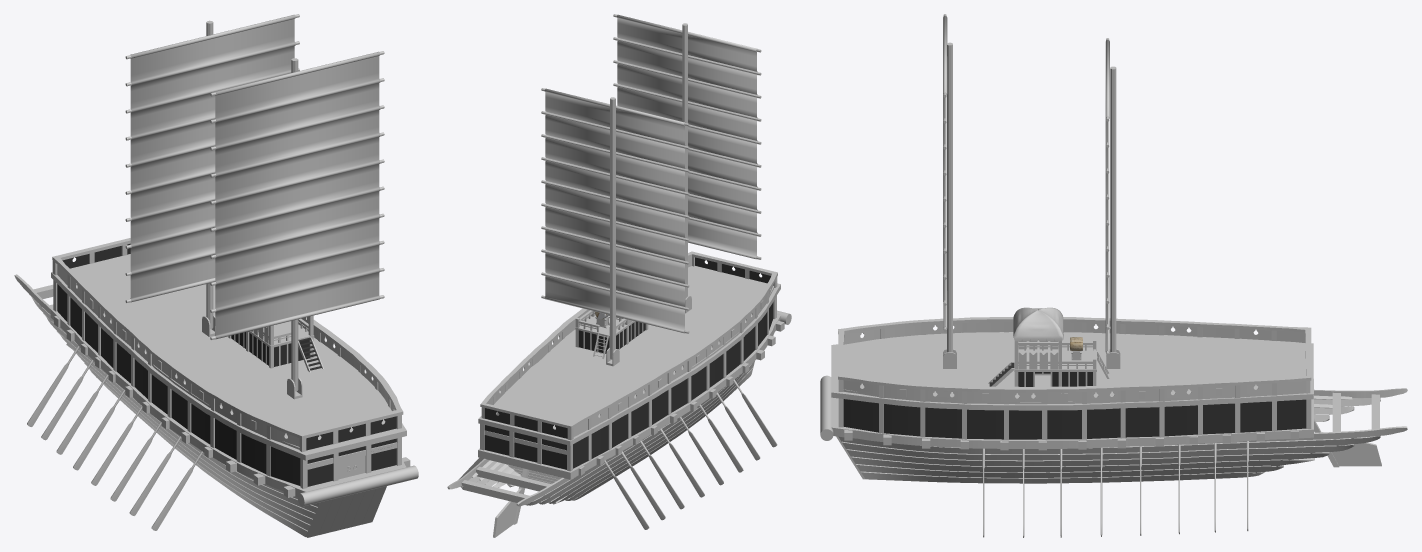
Rendered from SM_PanokShip.FBX.
The picture shows the model from 3 angles, left to right: view 1: azimuth 30°, elevation 25°; view 2: azimuth 150°, elevation 25°; view 3: azimuth 270°, elevation 25°; orthographic projection. The views are drawn at different scales.
Visible parts, largest first — view 1: SM_PanokShip; view 2: SM_PanokShip; view 3: SM_PanokShip.
Part boxes in pixels (<box>): SM_PanokShip: <box>14,14,418,537</box>; SM_PanokShip: <box>447,14,791,537</box>; SM_PanokShip: <box>820,14,1407,537</box>.
Size of what is drawn, in the model's own units: 1104 by 2315 by 1899.
